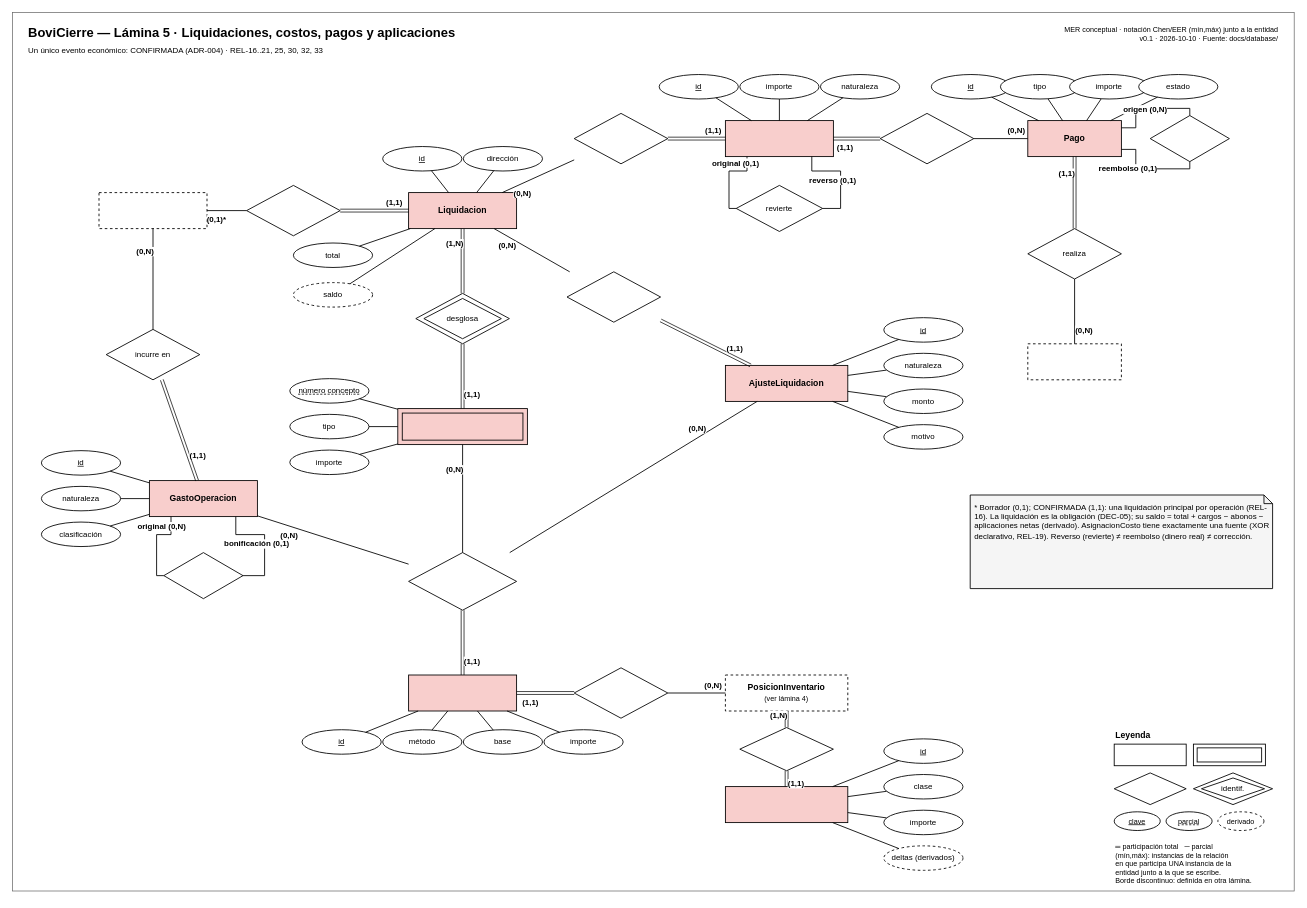
Image size: 1307x908. Some labels were removed from this diagram. The shapes that lost their labels are listed below. From the top down, each one's centre as x and y in pixels, then its label:
At (x=620, y=138): "abona a".
At (x=779, y=138): "AplicacionPago".
At (x=926, y=138): "proviene de".
At (x=1189, y=138): "reembolsa".
At (x=152, y=210): "Operacion (ver lámina 3)".
At (x=293, y=210): "origina".
At (x=613, y=296): "recibe".
At (x=1074, y=361): "Parte (ver lámina 2)".
At (x=462, y=426): "ConceptoLiquidacion".
At (x=203, y=575): "bonifica".
At (x=462, y=581): "proviene de (exactamente 1)".
At (x=462, y=692): "AsignacionCosto".
At (x=620, y=692): "se asigna a".
At (x=786, y=749): "acumula".
At (x=1149, y=754): "Entidad fuerte".
At (x=1229, y=754): "Entidad débil".
At (x=786, y=804): "AsientoValoracion".
At (x=1149, y=788): "relación".
